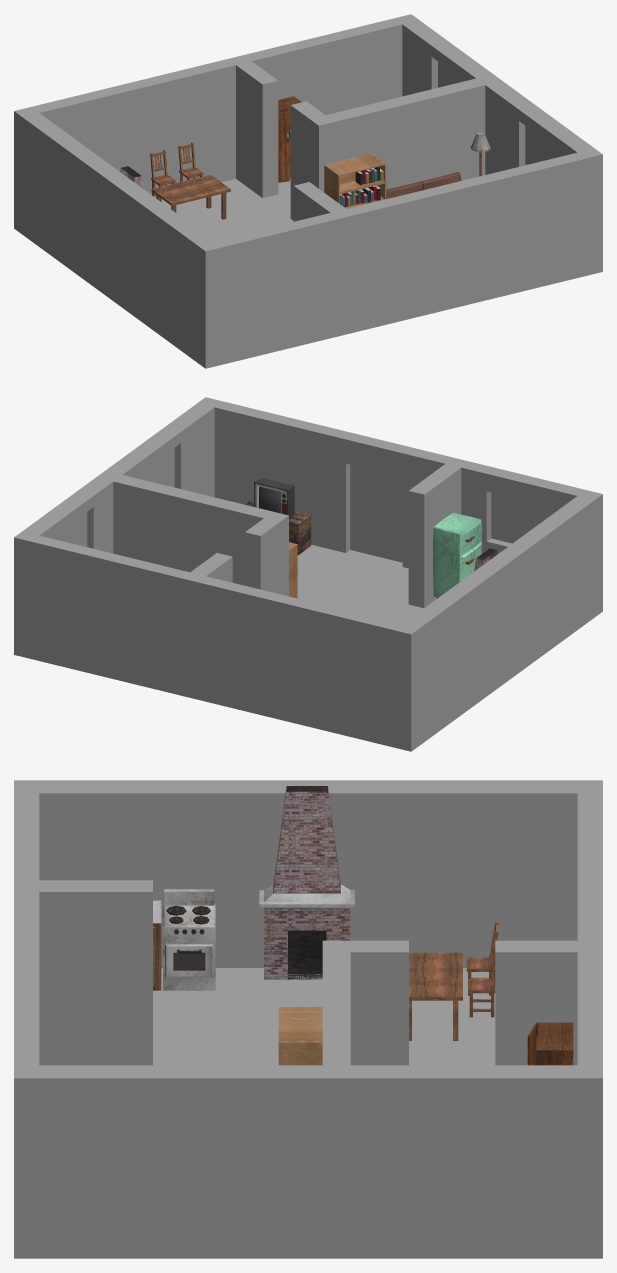
File: H2_Int_Clean.fbx
3 views of the same model, one above another, from view 1: azimuth 30°, elevation 25°; view 2: azimuth 150°, elevation 25°; view 3: azimuth 270°, elevation 25° (orthographic). The views are drawn at different scales.
Visible parts, largest first — view 1: House_Type_2_Damaged_House_1_Interior3, BookShelf7, Table5, Closet2, Couch_8, Chair15, Chair14; view 2: House_Type_2_Damaged_House_1_Interior3, Fidge2, Tube_tv, Tv_stand1, BookShelf7; view 3: House_Type_2_Damaged_House_1_Interior3, Fire_Place_4, StoveTop2, Table5, BookShelf7, Closet2, Chair14, KItchen_Sink_3, Chair15.
Boxes of the visible parts, left/top/right/bottom form: House_Type_2_Damaged_House_1_Interior3: left=14, top=14, right=602, bottom=368; BookShelf7: left=324, top=153, right=386, bottom=208; Table5: left=151, top=174, right=230, bottom=219; Closet2: left=278, top=96, right=301, bottom=182; Couch_8: left=386, top=172, right=461, bottom=198; Chair15: left=150, top=149, right=175, bottom=200; Chair14: left=178, top=142, right=203, bottom=181; House_Type_2_Damaged_House_1_Interior3: left=14, top=397, right=602, bottom=751; Fidge2: left=433, top=512, right=482, bottom=598; Tube_tv: left=254, top=478, right=294, bottom=518; Tv_stand1: left=245, top=500, right=311, bottom=554; BookShelf7: left=289, top=542, right=297, bottom=598; House_Type_2_Damaged_House_1_Interior3: left=14, top=780, right=602, bottom=1258; Fire_Place_4: left=259, top=786, right=354, bottom=979; StoveTop2: left=163, top=889, right=215, bottom=990; Table5: left=409, top=952, right=462, bottom=1040; BookShelf7: left=278, top=1007, right=322, bottom=1065; Closet2: left=527, top=1022, right=573, bottom=1065; Chair14: left=468, top=954, right=495, bottom=1017; KItchen_Sink_3: left=153, top=900, right=161, bottom=990; Chair15: left=466, top=921, right=498, bottom=995.
Size of the model in its own units: 30.07 by 8.83 by 25.13.
